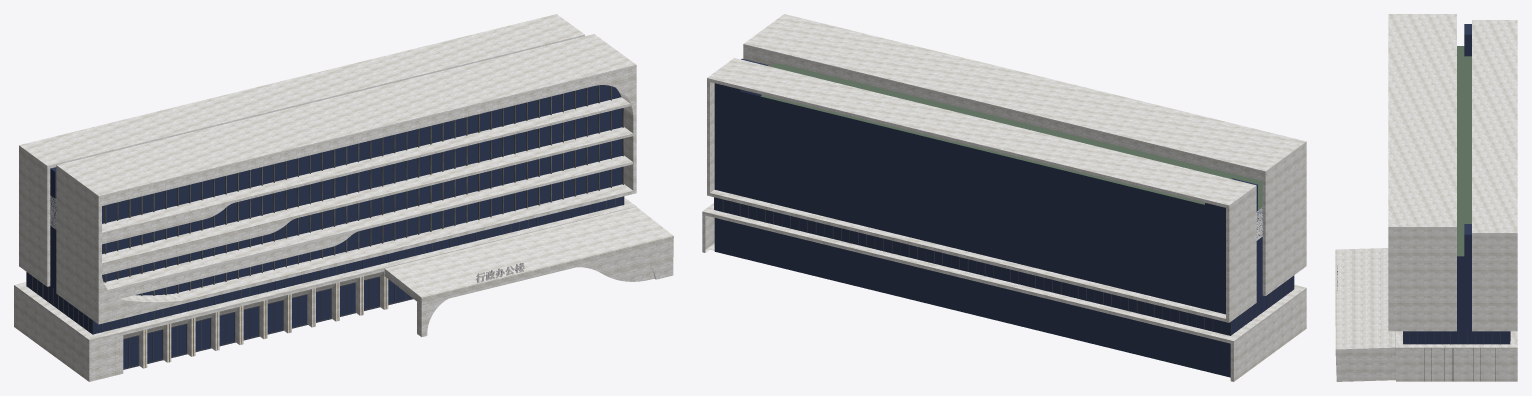
3 views of the same model, side by side, from view 1: azimuth 30°, elevation 25°; view 2: azimuth 150°, elevation 25°; view 3: azimuth 270°, elevation 25° (orthographic). The views are drawn at different scales.
Visible parts, largest first — view 1: G-Object.005, G-Object.004, G-Object.006, G-Object.024, _G-Object.007 (Loose Mesh), G-Object.018, G-Object.014, G-Object.017, G-Object.012, G-Object.011, G-Object.013, G-Object.022; view 2: G-Object.005, G-Object.006, G-Object.014, G-Object.017, G-Object.013, G-Object.012, G-Object.011, G-Object.018, _G-Object.007 (Loose Mesh), G-Object.016; view 3: G-Object.005, G-Object.006, G-Object.024, _G-Object.007 (Loose Mesh), G-Object.014, G-Object.011, G-Object.012, G-Object.017, G-Object.015, G-Object.016.
Boxes of the visible parts, x1,y1,x2,y2 form: G-Object.005: (56, 34, 636, 324); G-Object.004: (102, 97, 633, 298); G-Object.006: (19, 14, 584, 286); G-Object.024: (384, 207, 673, 304); _G-Object.007 (Loose Mesh): (14, 197, 636, 381); G-Object.018: (102, 85, 621, 223); G-Object.014: (50, 108, 622, 253); G-Object.017: (50, 139, 622, 282); G-Object.012: (50, 167, 622, 295); G-Object.011: (27, 196, 623, 336); G-Object.013: (123, 277, 413, 369); G-Object.022: (123, 271, 383, 338); G-Object.005: (743, 14, 1306, 295); G-Object.006: (707, 58, 1256, 322); G-Object.014: (714, 63, 1262, 258); G-Object.017: (714, 134, 1262, 288); G-Object.013: (714, 222, 1230, 377); G-Object.012: (714, 163, 1262, 314); G-Object.011: (714, 197, 1294, 347); G-Object.018: (714, 85, 1204, 224); _G-Object.007 (Loose Mesh): (702, 203, 1306, 381); G-Object.016: (1205, 178, 1257, 229); G-Object.005: (1388, 14, 1456, 331); G-Object.006: (1472, 20, 1517, 331); G-Object.024: (1335, 248, 1395, 381); _G-Object.007 (Loose Mesh): (1396, 331, 1517, 381); G-Object.014: (1457, 46, 1471, 280); G-Object.011: (1403, 330, 1509, 344); G-Object.012: (1457, 305, 1471, 329); G-Object.017: (1457, 281, 1471, 305); G-Object.015: (1464, 224, 1471, 256); G-Object.016: (1464, 24, 1471, 56).
Size of what is drawn, in the model's own units: 6820 by 2250 by 2428.
18 materials, 3 textured.
